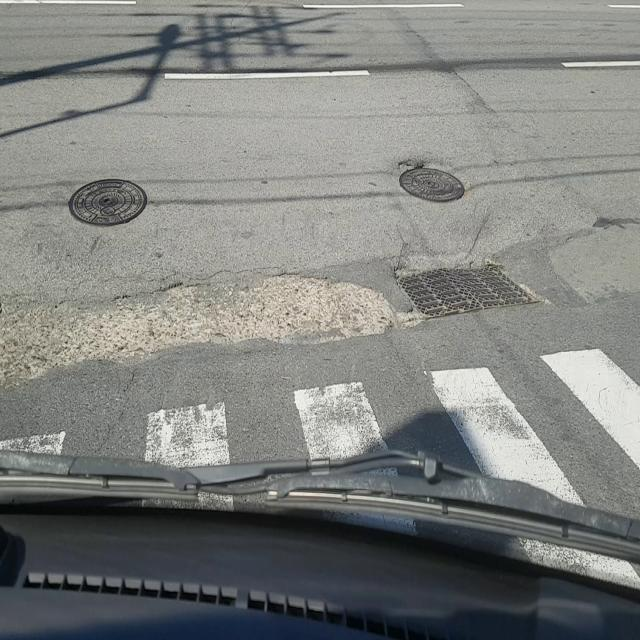Pothole: (396, 158, 466, 205)
